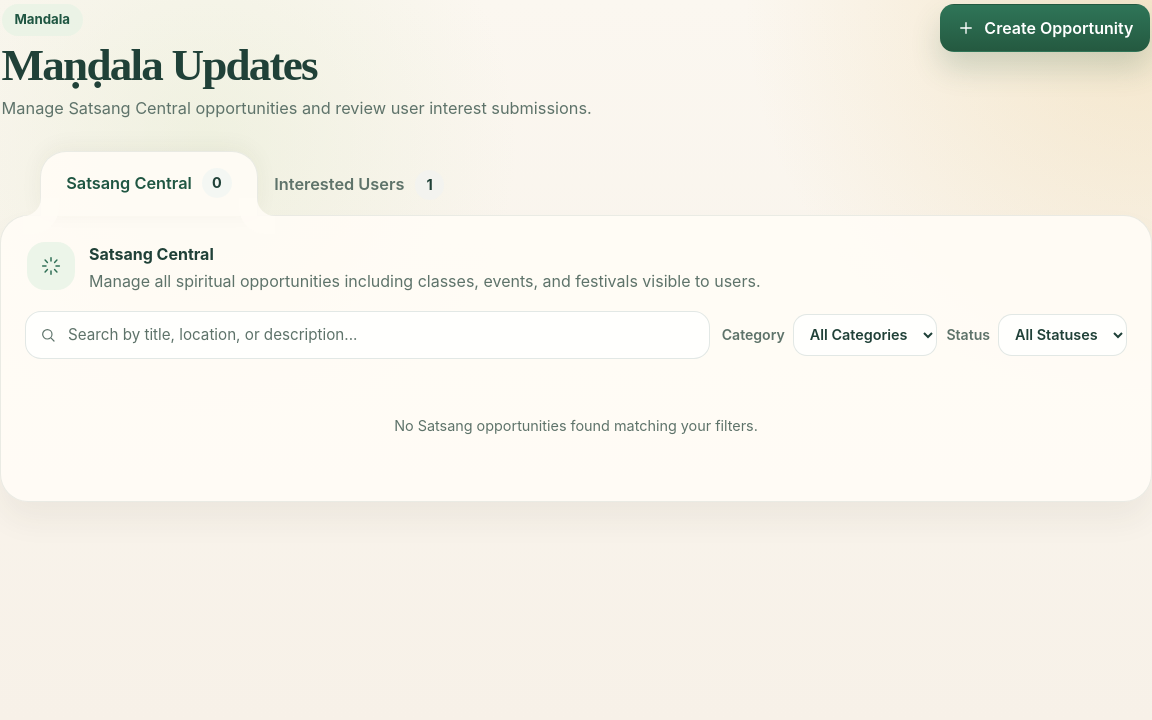
Test: MandalaUpdatesPage › renders Interested Users tab and clicking View opens user interest details dialog
Click the tab "Interested Users 1" at (359, 186), box [272,156,447,216]
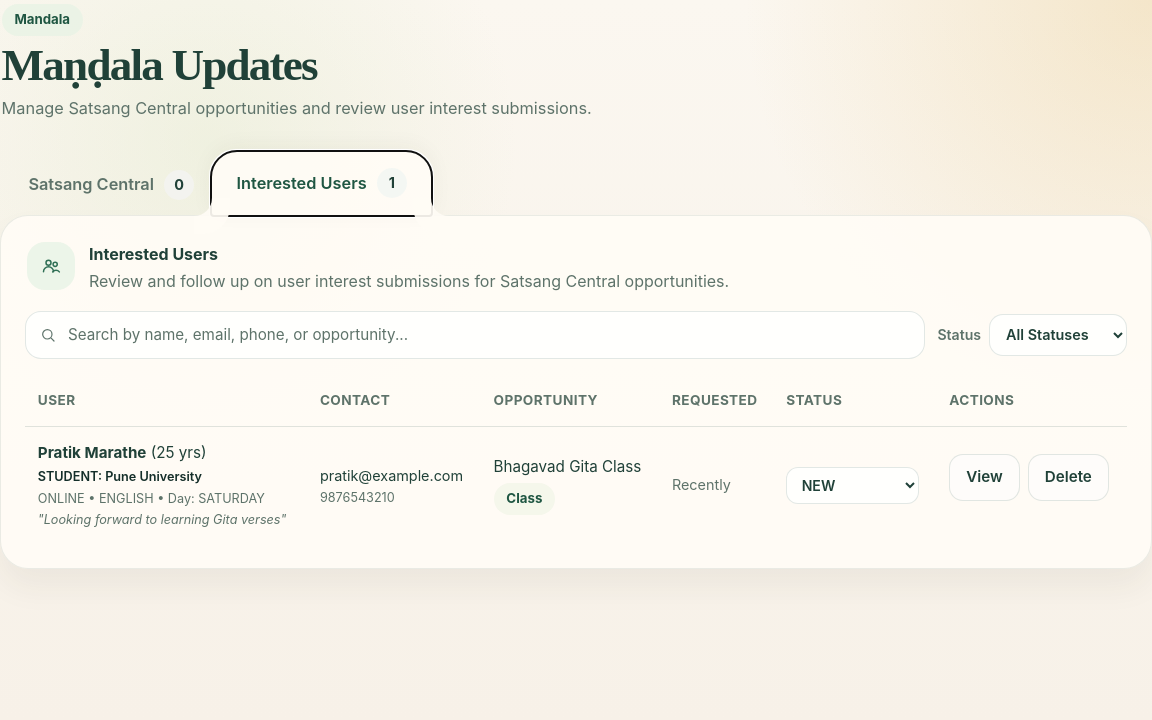
expect the text "Pratik Marathe" is shown: met, box [38,443,146,462]
expect the text "Pratik Marathe (25 yrs)" is shown: met, box [38,442,207,465]
expect the text "STUDENT: Pune University" is shown: met, box [38,467,202,486]
// Clicking View button opens User Interest Details modal
Click the button "View" at (984, 478), box [949,454,1020,501]
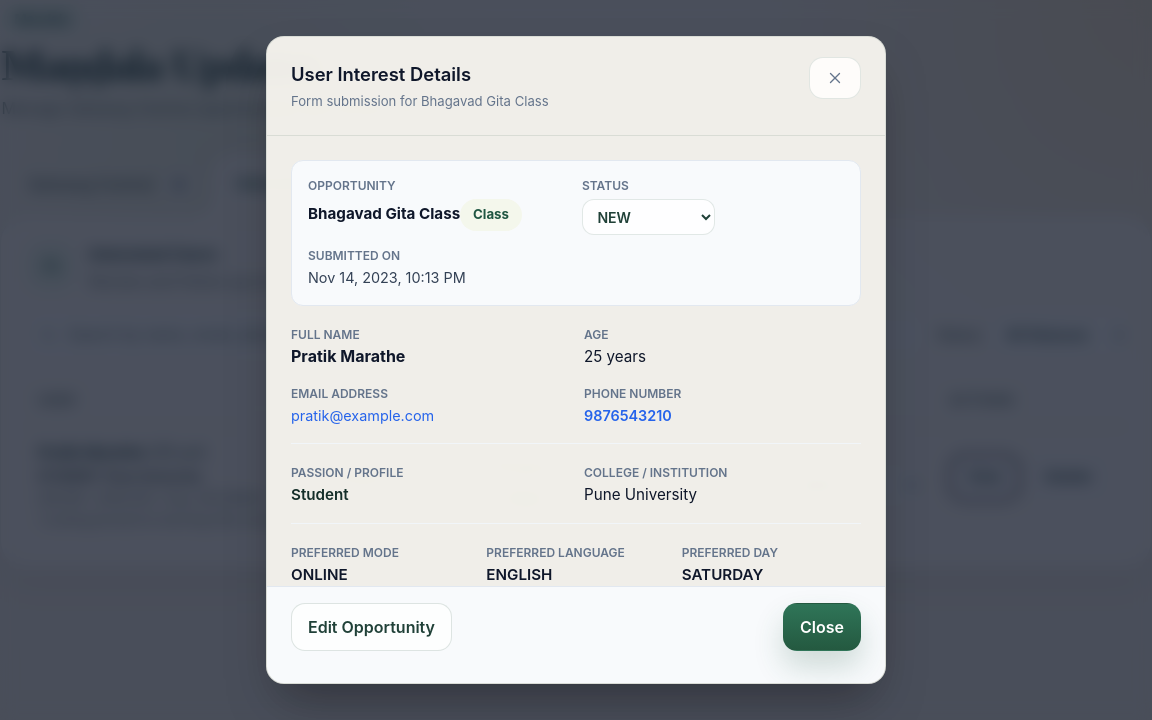
expect the dialog is shown: met
expect the heading "User Interest Details" is shown: met, box [291,63,471,85]
expect the link "pratik@example.com" is shown: met, box [291,407,434,424]
// Close modal
Click the button named "close dialog" at (835, 78), box [809,57,861,99]
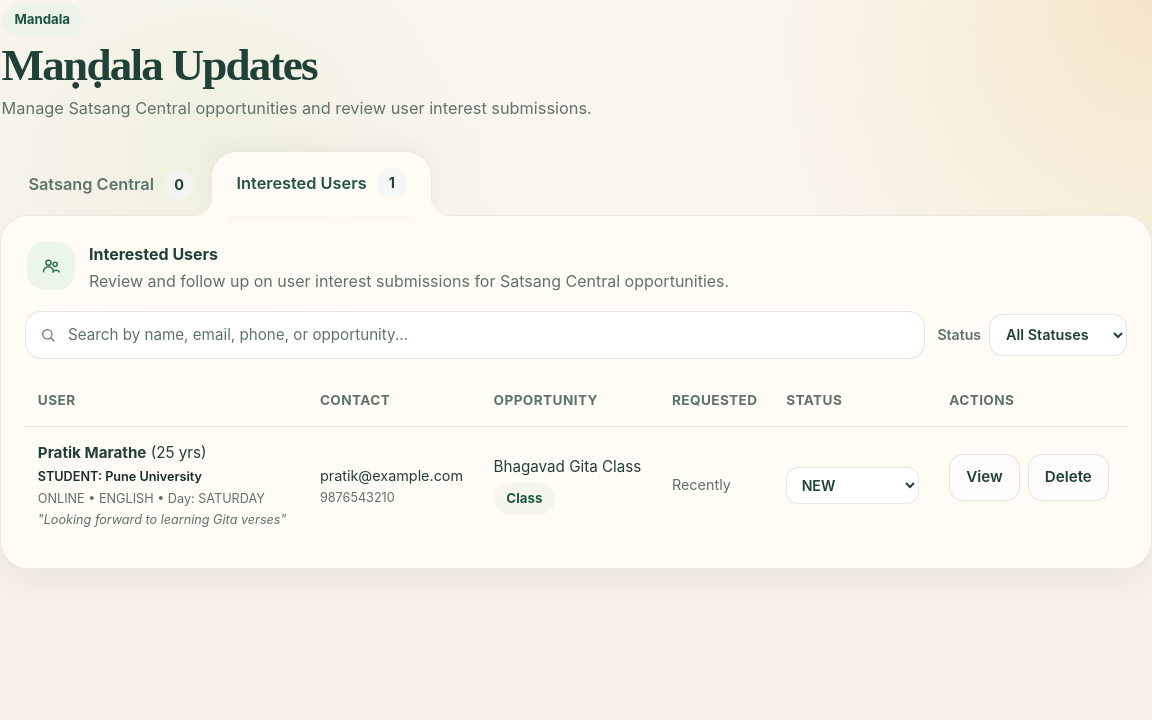
expect the dialog is gone: met
